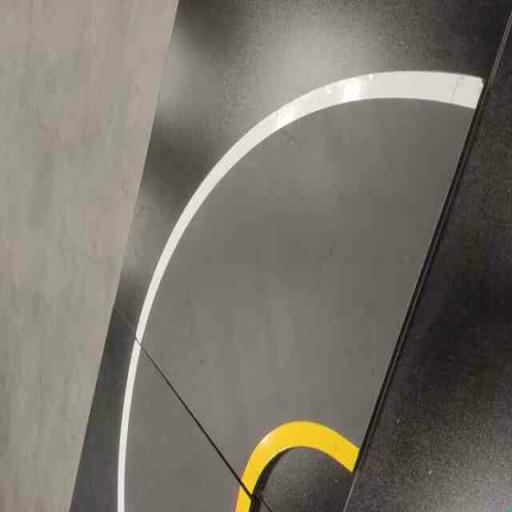left: (119, 24, 489, 511)
